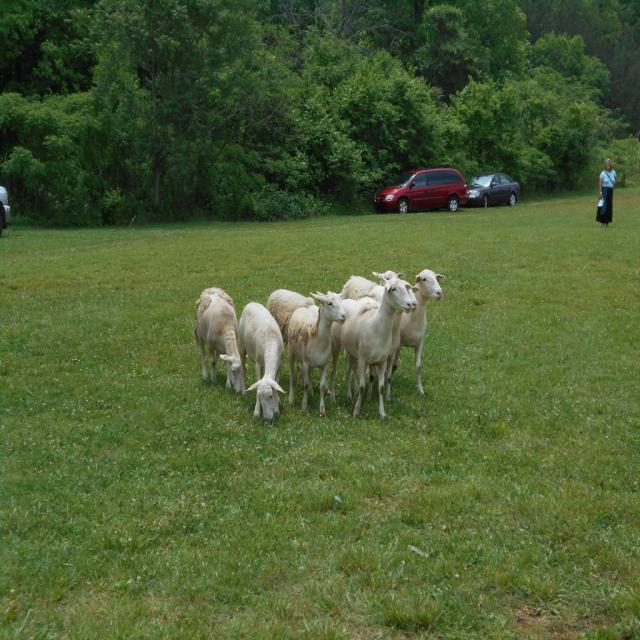Goat: (194, 266, 445, 421), (237, 300, 286, 424), (193, 286, 245, 394)
